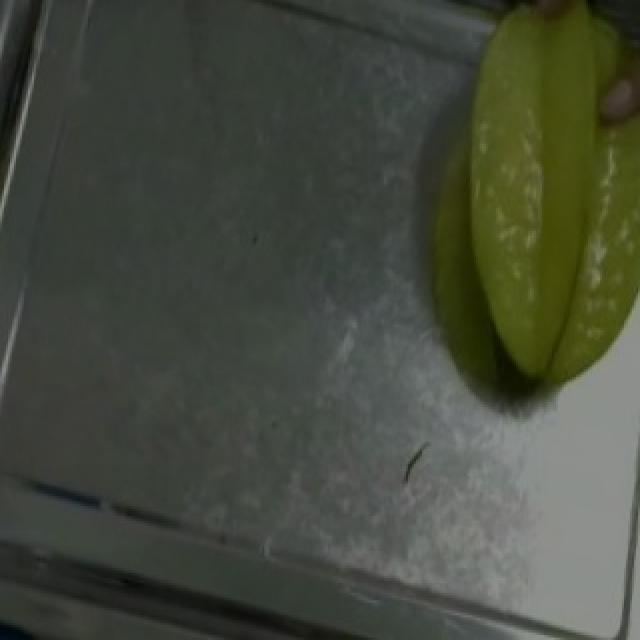fruit: (426, 7, 640, 392)
